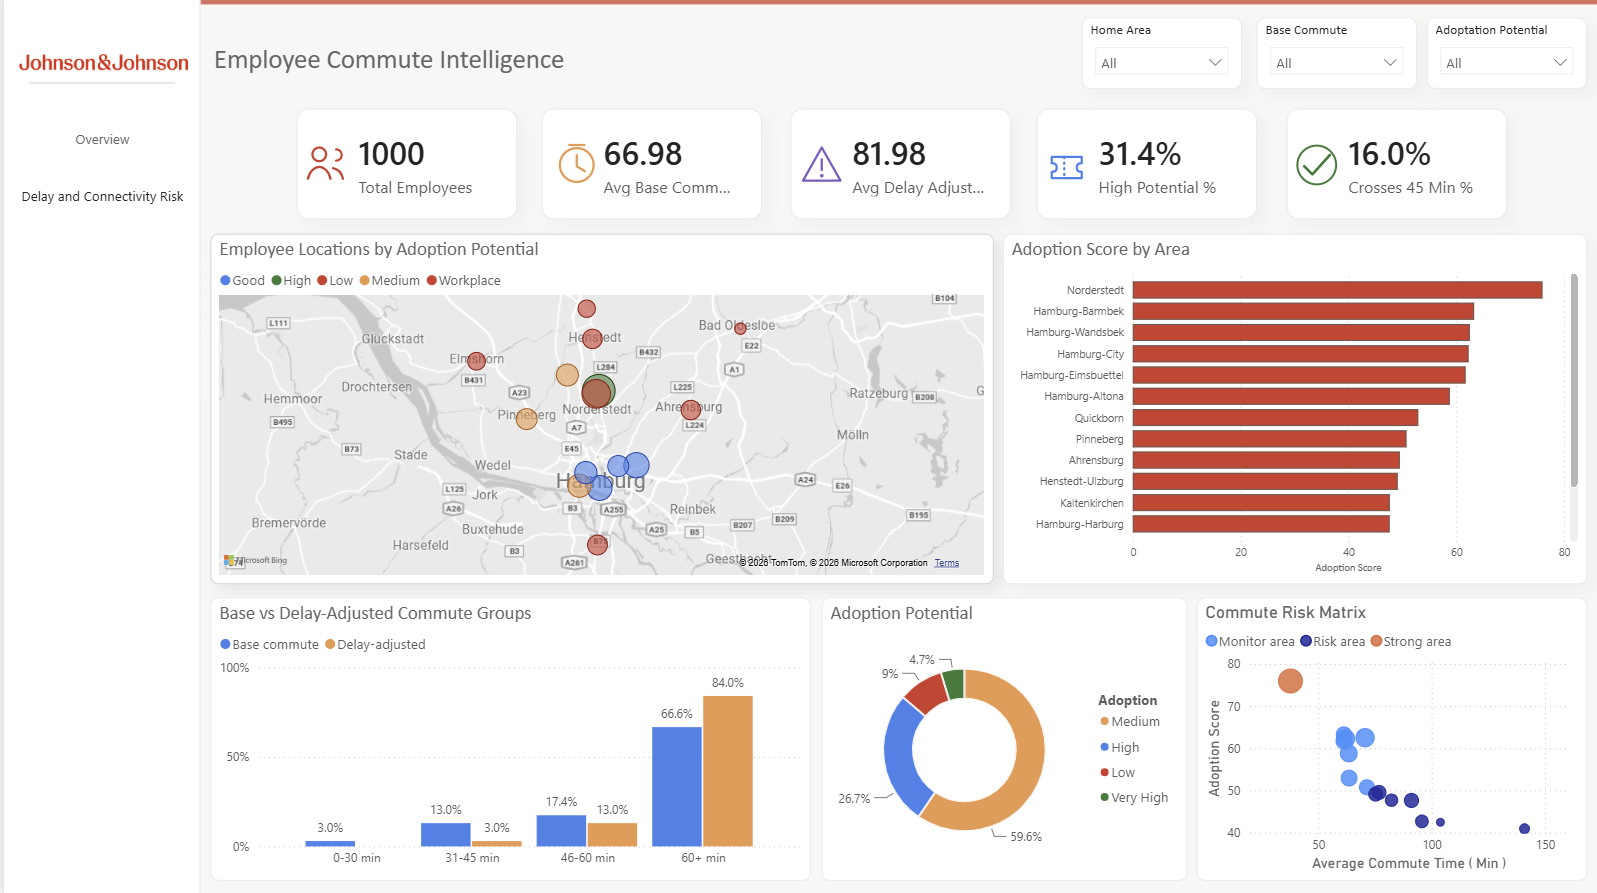

The page's visual inventory and layout, read from the dashboard file:
{"tool":"powerbi","page":{"name":"Overview","canvas":[1600,900],"ordinal":0},"visuals":[{"type":"shape","box":[194.3,0,1405.7,12.9],"z":0},{"type":"shape","box":[0,0,197.5,900],"z":1000},{"type":"image","box":[15.7,40,168.6,54.3],"z":2000},{"type":"slicer","title":"Adoptation Potential","fields":{"Values":["CommuteData.adoption_potential"]},"box":[1424.3,22.9,160,71.4],"z":3000},{"type":"slicer","title":"Home Area","fields":{"Values":["CommuteData.home_area"]},"box":[1078.6,22.9,160,71.4],"z":4000},{"type":"slicer","title":"Base Commute","fields":{"Values":["CommuteData.base_commute_group"]},"box":[1254.3,22.9,160,71.4],"z":5000},{"type":"map","title":"Employee Locations by Adoption Potential","fields":{"Y":["MapPoints.Latitude"],"X":["MapPoints.Longitude"],"Size":["Sum(MapPoints.Bubble Size)"],"Series":["MapPoints.Map Category"]},"box":[207.1,238.6,782.9,350],"z":6000},{"type":"clusteredBarChart","title":"Adoption Score by Area","fields":{"Category":["CommuteData.home_area"],"Y":["Avg(CommuteData.adoption_score)"]},"box":[1000,238.6,584.3,350],"z":7000},{"type":"clusteredColumnChart","title":"Base vs Delay-Adjusted Commute Groups","fields":{"Category":["CommuteScenario.Commute Group"],"Y":["CommuteScenario.Scenario Employees %"],"Series":["CommuteScenario.Scenario"]},"box":[207.1,602.9,600,282.9],"z":8000},{"type":"donutChart","title":"Adoption Potential","fields":{"Category":["CommuteData.adoption_potential"],"Y":["Count(CommuteData.employee_id)"]},"box":[818.6,602.9,365.7,282.9],"z":9000},{"type":"shape","box":[25.7,50,145.7,75.7],"z":10000},{"type":"cardVisual","fields":{"Data":["CommuteData.Avg Base Commute"]},"box":[538.6,114.3,220,110],"z":11000},{"type":"cardVisual","fields":{"Data":["CommuteData.Avg Delay Adjusted"]},"box":[787.1,114.3,220,110],"z":12000},{"type":"cardVisual","fields":{"Data":["CommuteData.High Potential %"]},"box":[1034.3,114.3,220,110],"z":13000},{"type":"cardVisual","fields":{"Data":["CommuteData.Within 45 Min %"]},"box":[1284.3,114.3,220,110],"z":14000},{"type":"cardVisual","fields":{"Data":["CommuteData.Total Employees"]},"box":[294.3,114.3,220,110],"z":15000},{"type":"textbox","box":[197.1,42.9,377.1,54.3],"z":16000},{"type":"scatterChart","title":"Commute Risk Matrix","fields":{"X":["CommuteData.Avg Base Commute"],"Y":["CommuteData.Avg Adoption Score"],"Size":["CommuteData.Area Employees"],"Category":["CommuteData.home_area"],"Series":["CommuteData.Area Risk Category"]},"box":[1194.3,602.9,390,282.9],"z":17000},{"type":"image","box":[294.3,138.6,60,60],"z":18000},{"type":"image","box":[544.3,138.6,60,60],"z":19000},{"type":"image","box":[788.6,140,60,60],"z":20000},{"type":"image","box":[1034.3,140,60,60],"z":21000},{"type":"image","box":[1284.3,140,60,60],"z":22000},{"type":"pageNavigator","box":[7.1,120,184.3,104.3],"z":23000}]}

Visuals, with their boxes on the page's 1600x900 design canvas (x1, y1, x2, y2). These are canvas units, not pixel positions in the 1597x893 screenshot, which may show the page scaled, cropped or inside an application window:
shape: bbox=[194, 0, 1600, 13]
shape: bbox=[0, 0, 198, 900]
image: bbox=[16, 40, 184, 94]
"Adoptation Potential" slicer: bbox=[1424, 23, 1584, 94]
"Home Area" slicer: bbox=[1079, 23, 1239, 94]
"Base Commute" slicer: bbox=[1254, 23, 1414, 94]
"Employee Locations by Adoption Potential" map: bbox=[207, 239, 990, 589]
"Adoption Score by Area" clusteredBarChart: bbox=[1000, 239, 1584, 589]
"Base vs Delay-Adjusted Commute Groups" clusteredColumnChart: bbox=[207, 603, 807, 886]
"Adoption Potential" donutChart: bbox=[819, 603, 1184, 886]
shape: bbox=[26, 50, 171, 126]
cardVisual - CommuteData.Avg Base Commute: bbox=[539, 114, 759, 224]
cardVisual - CommuteData.Avg Delay Adjusted: bbox=[787, 114, 1007, 224]
cardVisual - CommuteData.High Potential %: bbox=[1034, 114, 1254, 224]
cardVisual - CommuteData.Within 45 Min %: bbox=[1284, 114, 1504, 224]
cardVisual - CommuteData.Total Employees: bbox=[294, 114, 514, 224]
textbox: bbox=[197, 43, 574, 97]
"Commute Risk Matrix" scatterChart: bbox=[1194, 603, 1584, 886]
image: bbox=[294, 139, 354, 199]
image: bbox=[544, 139, 604, 199]
image: bbox=[789, 140, 849, 200]
image: bbox=[1034, 140, 1094, 200]
image: bbox=[1284, 140, 1344, 200]
pageNavigator: bbox=[7, 120, 191, 224]
